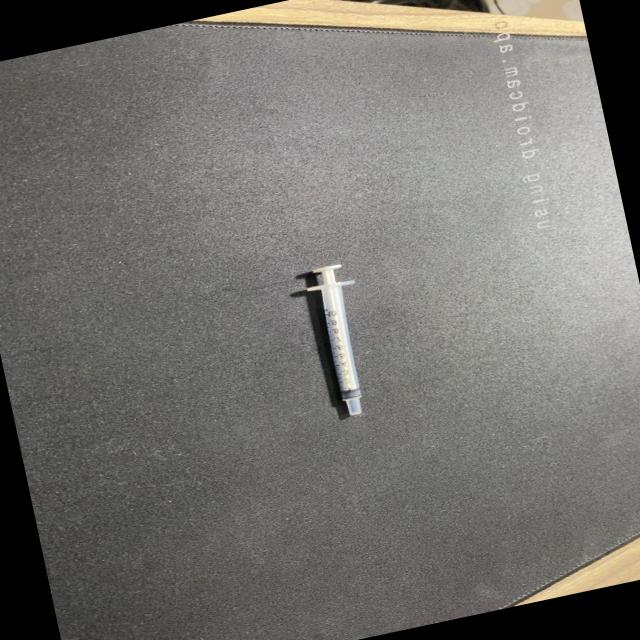syringe: (288, 254, 388, 427)
